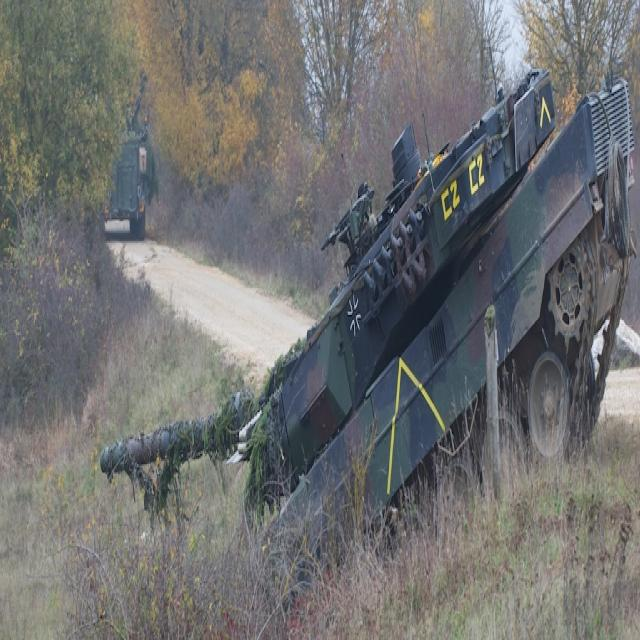tank: (100, 6, 638, 636)
